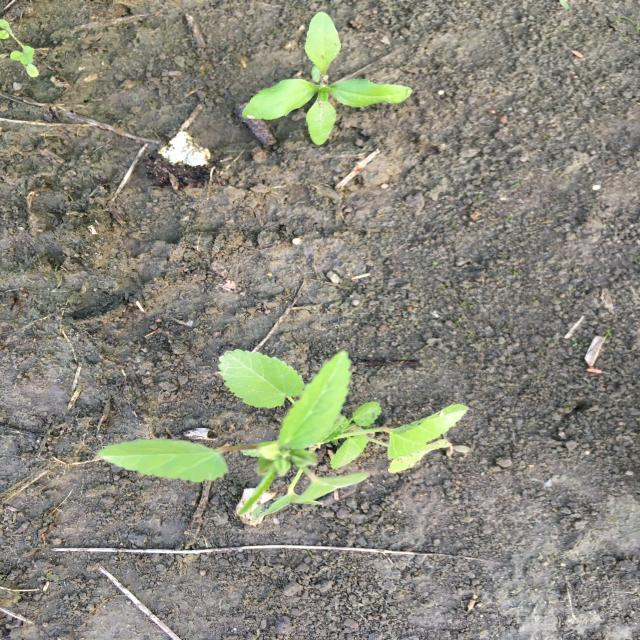Eclipta: (238, 11, 415, 148)
PricklySida: (96, 348, 472, 526)
